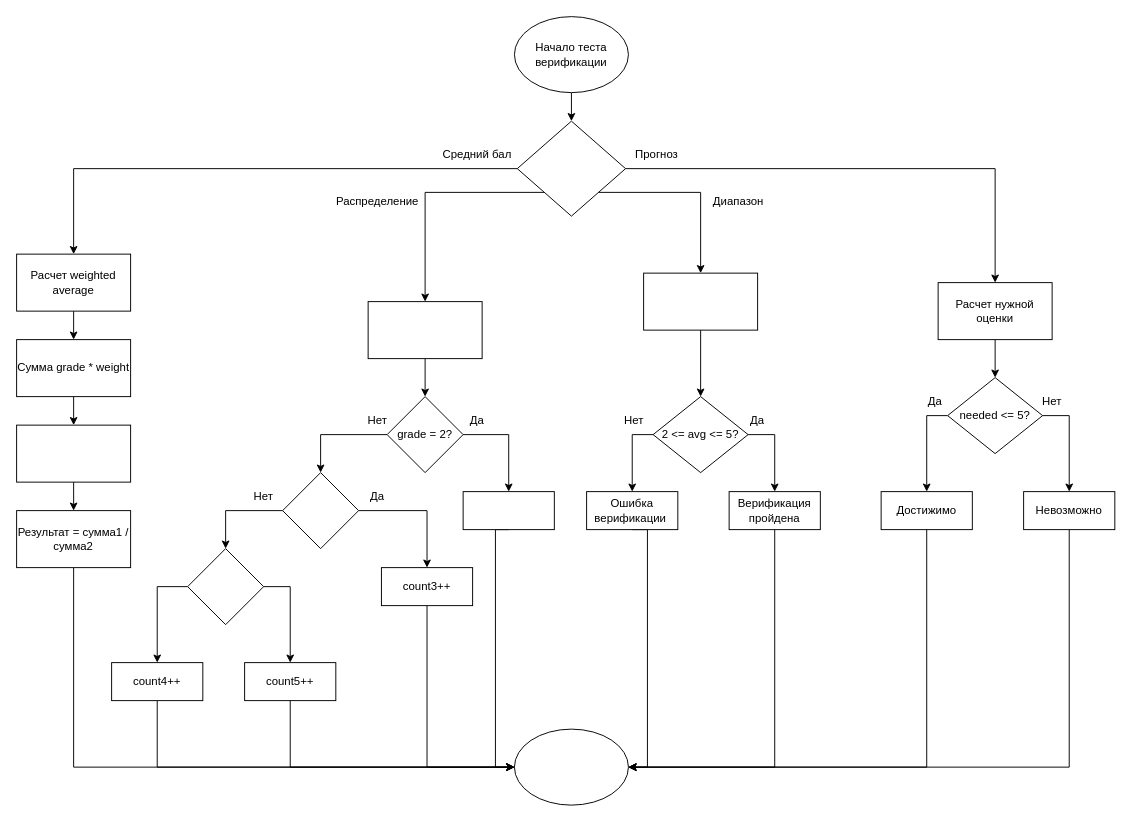
Image size: 1131x822. Some labels were removed from this diagram. Each missing label, with the centre of its shape:
"count2++" goes at point (508, 510).
"grade = 3?" goes at point (320, 510).
"grade = 4?" goes at point (225, 586).
"Конец теста" goes at point (570, 766).
"Подсчет количества оценок" goes at point (424, 330).
"Проверка 2-5" goes at point (700, 301).
"Сумма weight" goes at point (73, 453).
"Что проверяем?" goes at point (571, 168).
